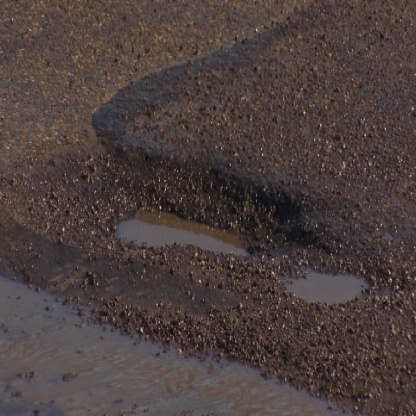pothole: (4, 160, 344, 265)
